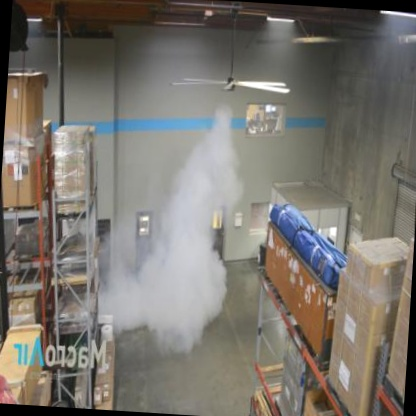smoke: (101, 94, 260, 356)
